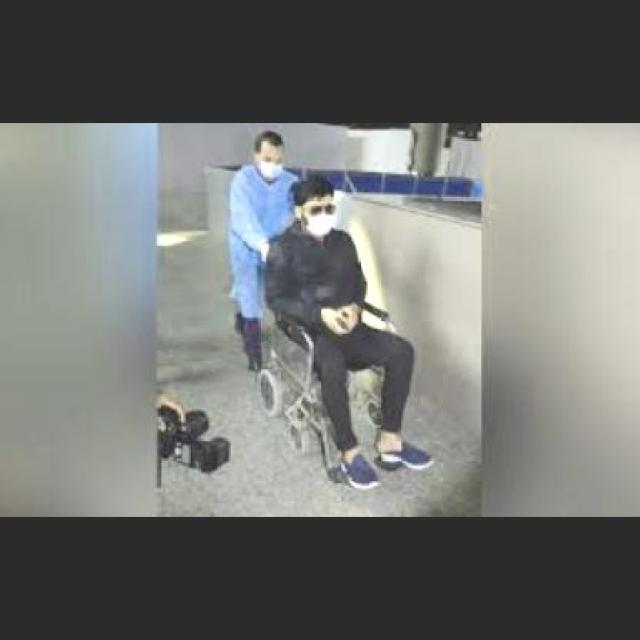wheelchairs: (246, 275, 432, 489)
